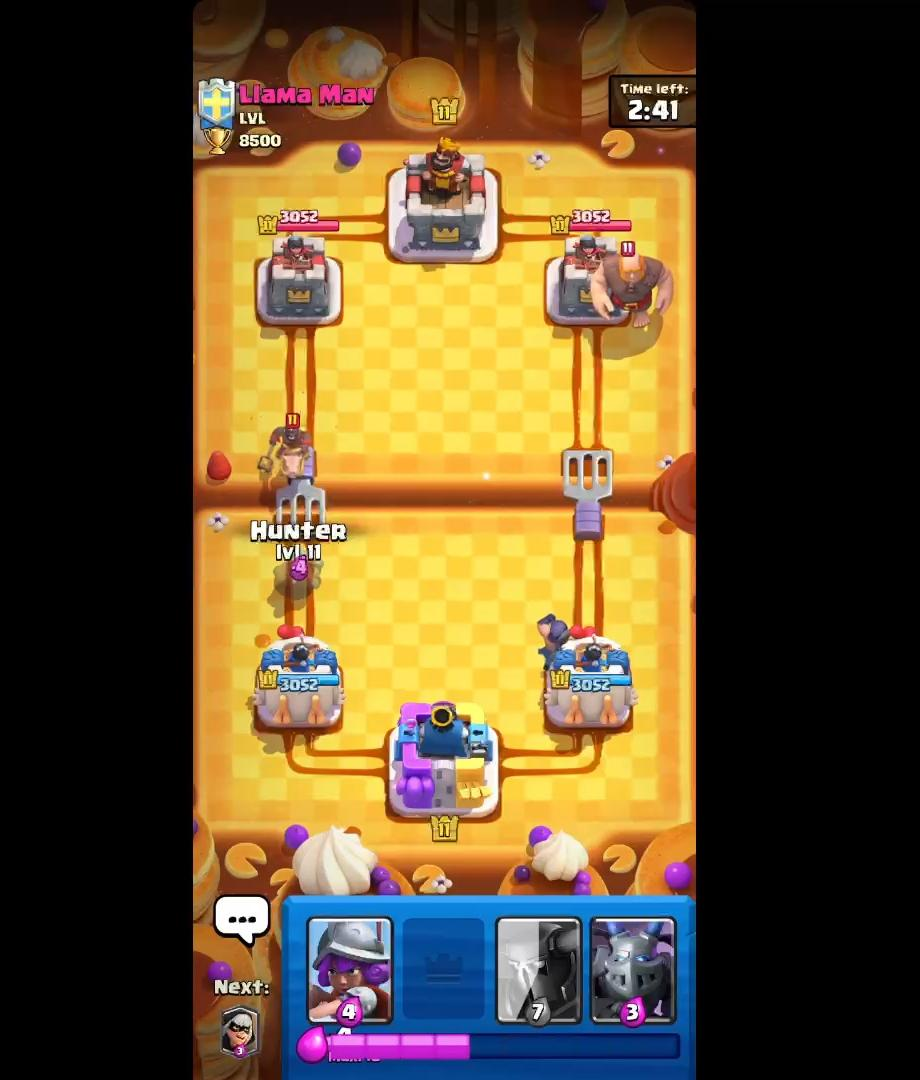Giant: (583, 239, 677, 337)
Hog Rider: (260, 410, 320, 492)
